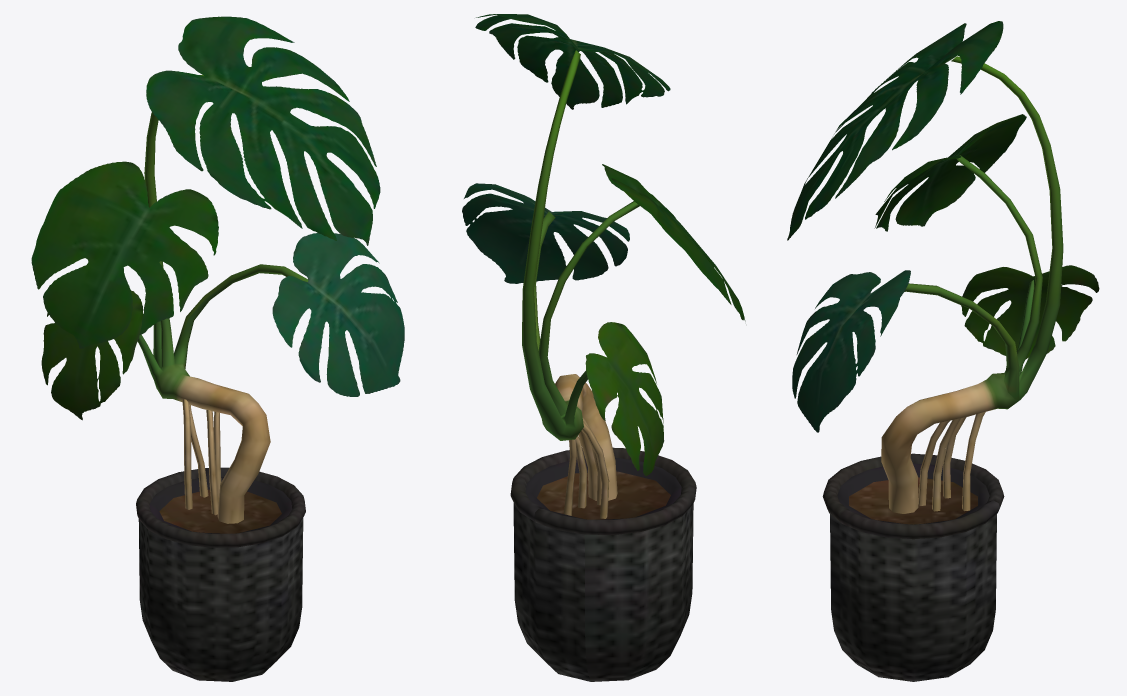
The model's file is monstera.glb.
3 renders of one model, left to right at view 1: azimuth 30°, elevation 25°; view 2: azimuth 150°, elevation 25°; view 3: azimuth 270°, elevation 25°, orthographic. The views are drawn at different scales.
Bounding box in the file's own units: 9.71 × 17.64 × 8.31.
Materials: 2 (2 with a texture image).
